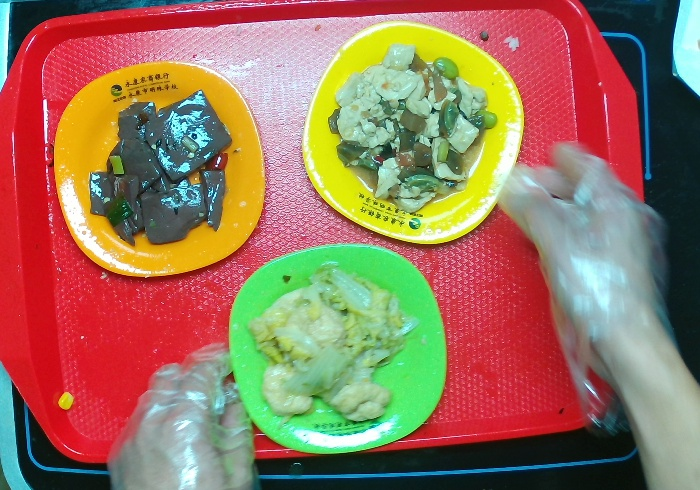YKMZ-Huang_Se_Fang_Die: (302, 19, 524, 247)
YKMZ-Ju_Se_Fang_Die: (51, 60, 269, 281)
YKMZ-Lv_Se_Fang_Die: (227, 242, 449, 456)
